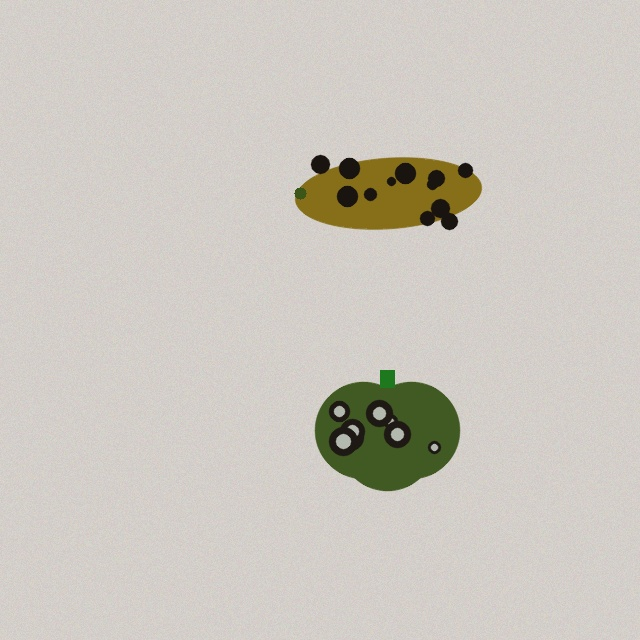Rotten banana: (291, 150, 485, 236)
Rotten bell pepper: (315, 370, 459, 490)
